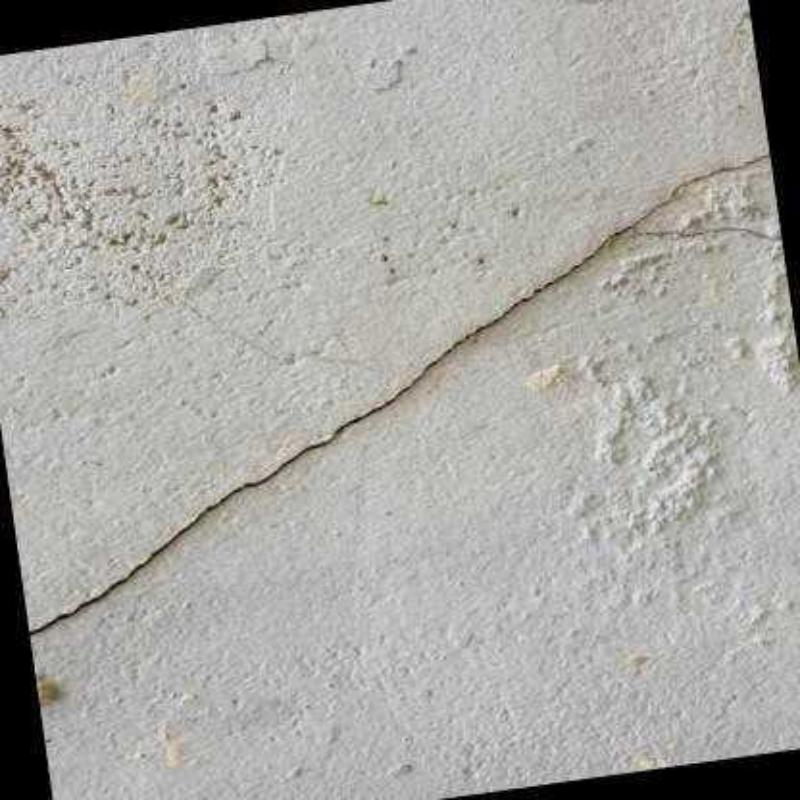crack: (28, 154, 782, 638)
